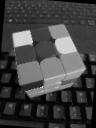rubik: (8, 18, 90, 102)
